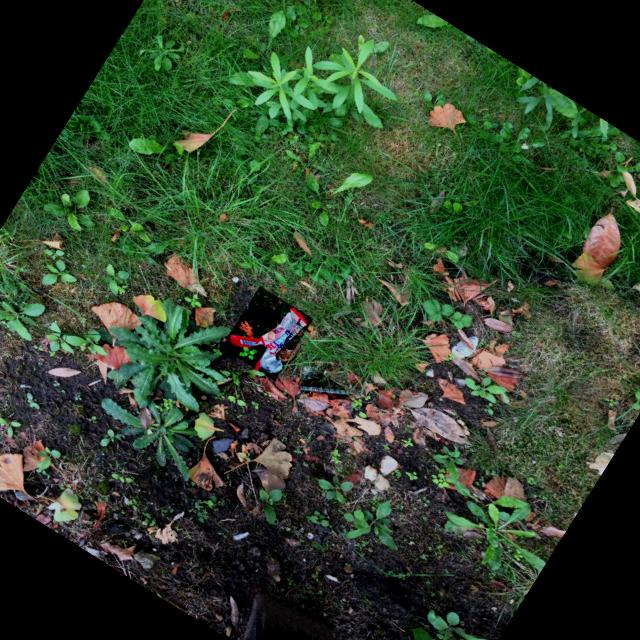Other plastic: (229, 307, 307, 373)
Plastic film: (298, 386, 347, 395)
